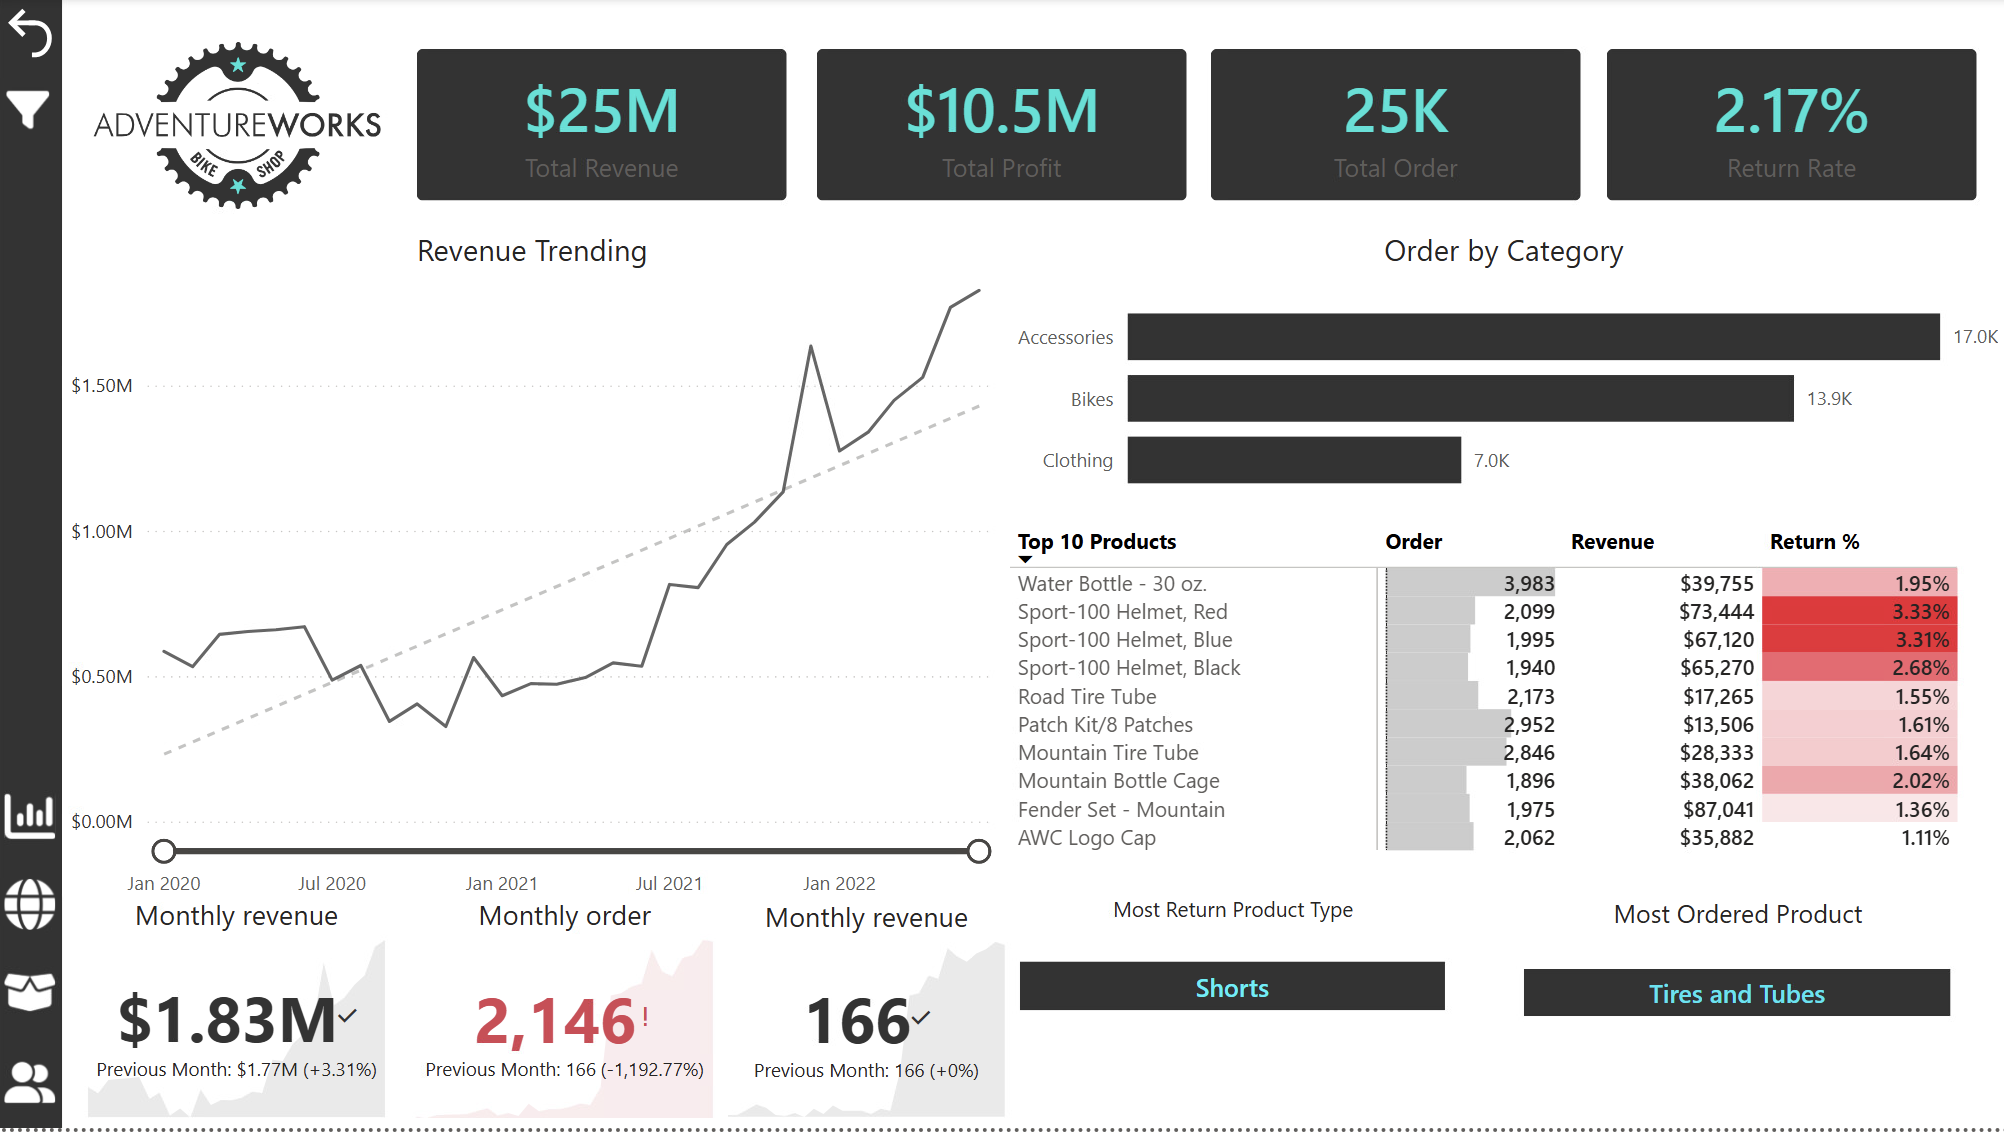

What the dashboard file says about the page in this screenshot:
{"tool":"powerbi","page":{"name":"Exec Dashboard","canvas":[1280,720],"ordinal":0},"visuals":[{"type":"image","title":"AW Logo","box":[41,15.4,224.4,132.1],"z":0},{"type":"cardVisual","fields":{"Data":["Measure Table.Total Revenue"]},"box":[250,15.5,270.9,131.8],"z":0,"group":"g2"},{"type":"actionButton","box":[0,549.9,40.7,56.3],"z":0,"group":"g5"},{"type":"cardVisual","title":"Most Return Product Type","fields":{"Data":["Measure Table.Return Rate"],"Rows":["Product Subcategories Lookup.SubcategoryName"]},"box":[646.5,571.7,281.8,148],"z":0,"group":"g4"},{"type":"group","id":"g1","title":"Group 2","box":[52,573,594.6,146.7],"z":0,"group":"g3"},{"type":"kpi","title":"Monthly revenue","fields":{"Indicator":["Measure Table.Total Revenue"],"TrendLine":["Calendar Lookup.Start of Month"],"Goal":["Measure Table.Previous month revenue"]},"box":[52,573.4,199.6,146.2],"z":0,"group":"g1"},{"type":"cardVisual","fields":{"Data":["Measure Table.Total Order"]},"box":[756.4,15.5,270.9,131.8],"z":1000,"group":"g2"},{"type":"cardVisual","fields":{"Data":["Measure Table.Total Revenue"]},"box":[250,147.2,270.9,131.8],"z":1000},{"type":"cardVisual","title":"Most Ordered Product","fields":{"Data":["Measure Table.Total Order"],"Rows":["Product Subcategories Lookup.SubcategoryName"]},"box":[968.1,572.8,283,147.5],"z":1000,"group":"g4"},{"type":"kpi","title":"Monthly revenue","fields":{"Indicator":["Measure Table.Total Return"],"TrendLine":["Calendar Lookup.Start of Month"],"Goal":["Measure Table.Previous month returns"]},"box":[459.9,574.7,186.7,144.7],"z":1000,"group":"g1"},{"type":"actionButton","box":[0,662.6,40.7,56.3],"z":1000,"group":"g5"},{"type":"cardVisual","fields":{"Data":["Measure Table.Total Profit"]},"box":[504.5,15.5,270.9,131.8],"z":2000,"group":"g2"},{"type":"shape","box":[520.9,32.1,238.5,100],"z":2000},{"type":"actionButton","box":[0,493.6,40.7,56.3],"z":2000,"group":"g5"},{"type":"kpi","title":"Monthly order","fields":{"TrendLine":["Calendar Lookup.Start of Month"],"Goal":["Measure Table.Previous month returns"],"Indicator":["Measure Table.Total Order"]},"box":[260.5,573,199.6,146.7],"z":2000,"group":"g1"},{"type":"cardVisual","title":"RETURN","fields":{"Data":["Measure Table.Return Rate"]},"box":[1009.1,15.5,270.9,131.8],"z":3000,"group":"g2"},{"type":"cardVisual","fields":{"Data":["Measure Table.Total Order"]},"box":[756.4,147.2,270.9,131.8],"z":3000},{"type":"actionButton","box":[0,606.3,40.7,56.3],"z":3000,"group":"g5"},{"type":"shape","box":[267.9,32.1,238.5,100],"z":4000},{"type":"shape","title":"Left Nav BG","box":[0,0,41,720.5],"z":5000},{"type":"cardVisual","title":"RETURN","fields":{"Data":["Measure Table.Return Rate"]},"box":[1009.1,147.2,270.9,131.8],"z":6000},{"type":"shape","box":[773.9,32.1,238.5,100],"z":7000},{"type":"shape","box":[1026.9,32.1,238.5,100],"z":8000},{"type":"group","id":"g2","title":"KPI CARD","box":[250,15.5,1030,131.8],"z":9000},{"type":"lineChart","title":"Revenue Trending ","fields":{"Y":["Measure Table.Total Revenue","select"],"Category":["Calendar Lookup.Start of Month","Calendar Lookup.Year","Calendar Lookup.Start of Quarter"]},"box":[40.9,147.7,599.6,424],"z":10000},{"type":"pivotTable","title":"Monthly Orders","fields":{"Rows":["Product Lookup.ProductName"],"Values":["Measure Table.Total Order","Measure Table.Total Revenue","Measure Table.Return Rate"]},"box":[640,331.7,640,251.9],"z":11000},{"type":"barChart","title":"Order by Category","fields":{"Category":["Product Categories Lookup.CategoryName"],"Y":["Measure Table.Total Order"]},"box":[640,147.8,640,183.8],"z":12000},{"type":"group","id":"g3","title":"Group 1","box":[52,573,594.6,146.7],"z":13000},{"type":"group","id":"g4","title":"Group 3","box":[646.5,571.7,604.6,148.7],"z":14000},{"type":"actionButton","box":[0,0,41.3,44.3],"z":15000},{"type":"group","id":"g5","title":"Navigation buttons ","box":[0,493.6,40.7,225.3],"z":16000},{"type":"actionButton","box":[1.8,54.1,39,35.5],"z":17000}]}

Visuals, with their boxes on the page's 1280x720 design canvas (x1, y1, x2, y2). These are canvas units, not pixel positions in the 2004x1132 screenshot, which may show the page scaled, cropped or inside an application window:
"AW Logo" image: {"x1": 41, "y1": 15, "x2": 265, "y2": 148}
cardVisual - Measure Table.Total Revenue: {"x1": 250, "y1": 16, "x2": 521, "y2": 147}
actionButton: {"x1": 0, "y1": 550, "x2": 41, "y2": 606}
"Most Return Product Type" cardVisual: {"x1": 646, "y1": 572, "x2": 928, "y2": 720}
"Group 2" group: {"x1": 52, "y1": 573, "x2": 647, "y2": 720}
"Monthly revenue" kpi: {"x1": 52, "y1": 573, "x2": 252, "y2": 720}
cardVisual - Measure Table.Total Order: {"x1": 756, "y1": 16, "x2": 1027, "y2": 147}
cardVisual - Measure Table.Total Revenue: {"x1": 250, "y1": 147, "x2": 521, "y2": 279}
"Most Ordered Product" cardVisual: {"x1": 968, "y1": 573, "x2": 1251, "y2": 720}
"Monthly revenue" kpi: {"x1": 460, "y1": 575, "x2": 647, "y2": 719}
actionButton: {"x1": 0, "y1": 663, "x2": 41, "y2": 719}
cardVisual - Measure Table.Total Profit: {"x1": 504, "y1": 16, "x2": 775, "y2": 147}
shape: {"x1": 521, "y1": 32, "x2": 759, "y2": 132}
actionButton: {"x1": 0, "y1": 494, "x2": 41, "y2": 550}
"Monthly order" kpi: {"x1": 260, "y1": 573, "x2": 460, "y2": 720}
"RETURN" cardVisual: {"x1": 1009, "y1": 16, "x2": 1280, "y2": 147}
cardVisual - Measure Table.Total Order: {"x1": 756, "y1": 147, "x2": 1027, "y2": 279}
actionButton: {"x1": 0, "y1": 606, "x2": 41, "y2": 663}
shape: {"x1": 268, "y1": 32, "x2": 506, "y2": 132}
"Left Nav BG" shape: {"x1": 0, "y1": 0, "x2": 41, "y2": 720}
"RETURN" cardVisual: {"x1": 1009, "y1": 147, "x2": 1280, "y2": 279}
shape: {"x1": 774, "y1": 32, "x2": 1012, "y2": 132}
shape: {"x1": 1027, "y1": 32, "x2": 1265, "y2": 132}
"KPI CARD" group: {"x1": 250, "y1": 16, "x2": 1280, "y2": 147}
"Revenue Trending " lineChart: {"x1": 41, "y1": 148, "x2": 640, "y2": 572}
"Monthly Orders" pivotTable: {"x1": 640, "y1": 332, "x2": 1280, "y2": 584}
"Order by Category" barChart: {"x1": 640, "y1": 148, "x2": 1280, "y2": 332}
"Group 1" group: {"x1": 52, "y1": 573, "x2": 647, "y2": 720}
"Group 3" group: {"x1": 646, "y1": 572, "x2": 1251, "y2": 720}
actionButton: {"x1": 0, "y1": 0, "x2": 41, "y2": 44}
"Navigation buttons " group: {"x1": 0, "y1": 494, "x2": 41, "y2": 719}
actionButton: {"x1": 2, "y1": 54, "x2": 41, "y2": 90}
